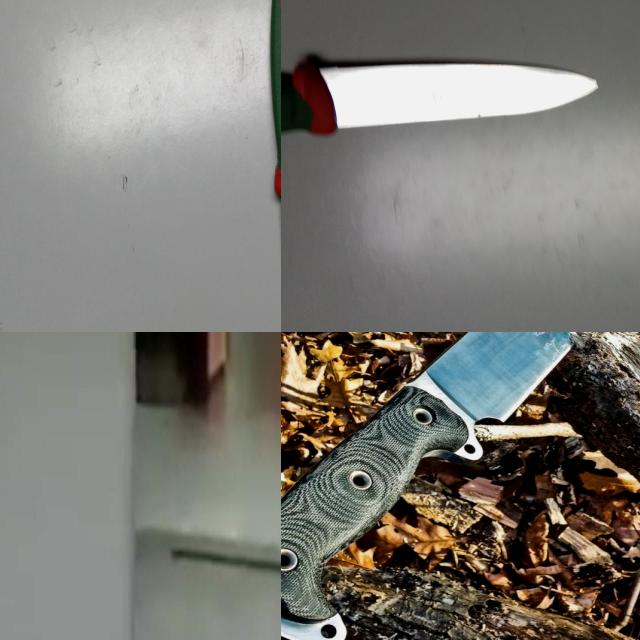Knife: (281, 61, 598, 134)
